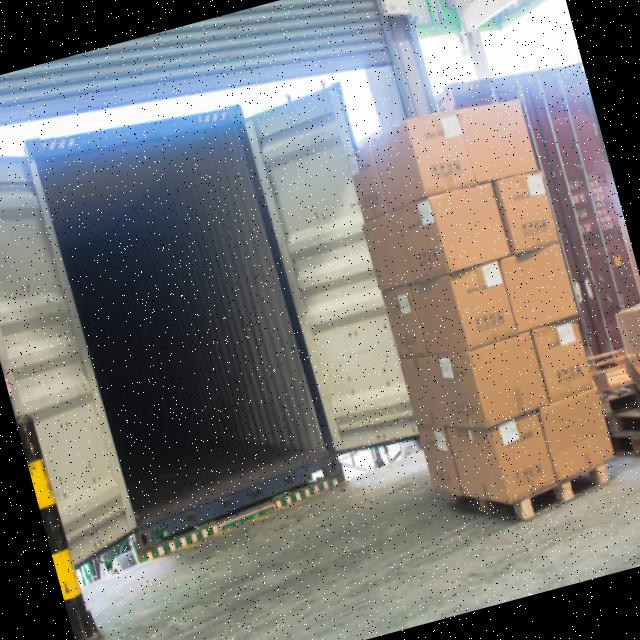Wooden-Pallets: (442, 457, 618, 528)
